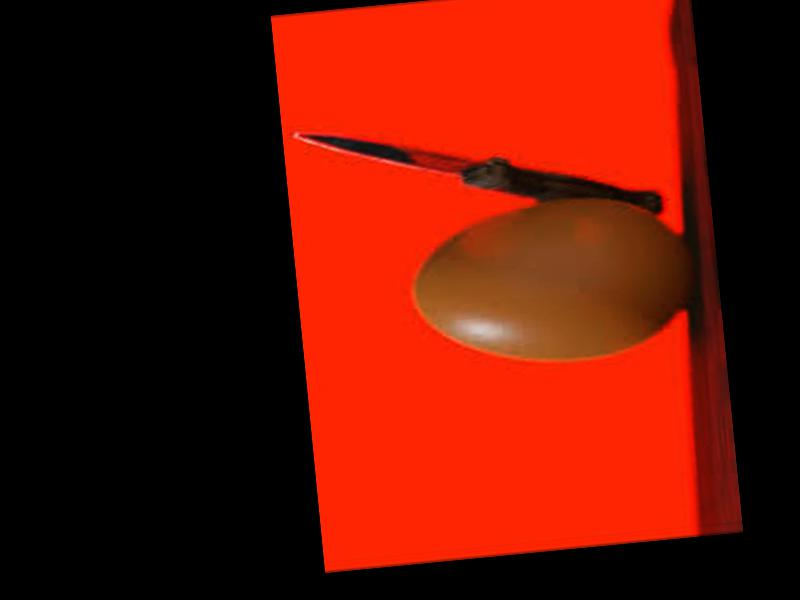Eggs: (408, 189, 695, 373)
